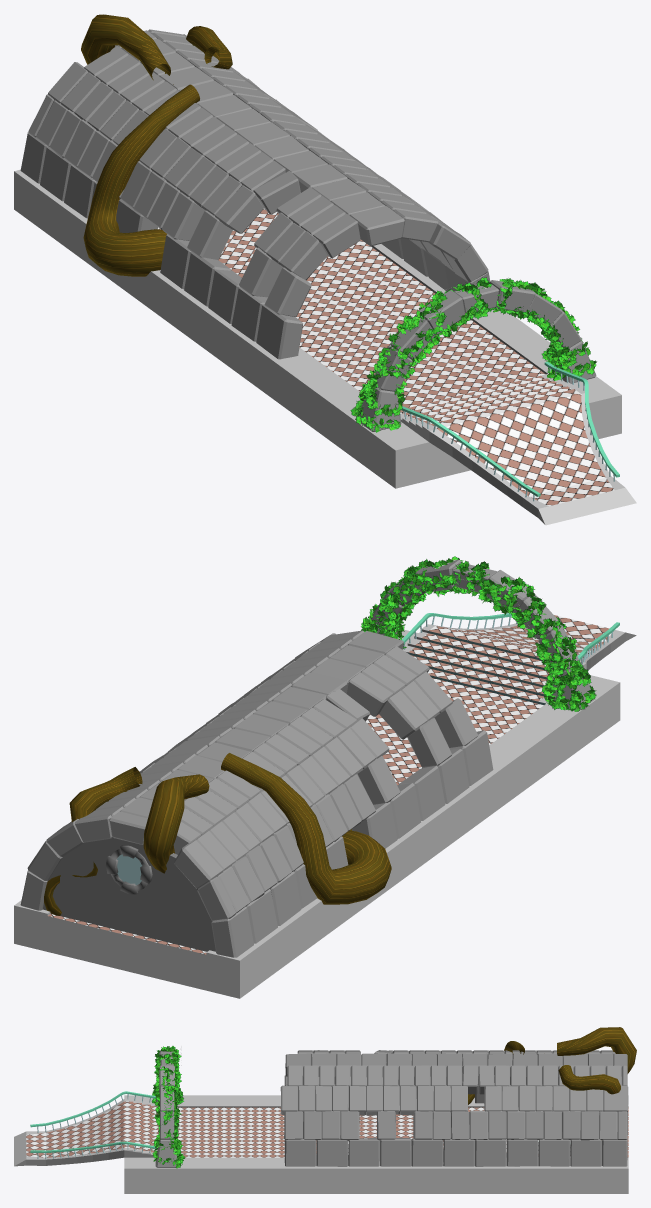
The model's file is carvedchunk.fbx.
3 renders of one model, top to bottom at view 1: azimuth 30°, elevation 25°; view 2: azimuth 150°, elevation 25°; view 3: azimuth 270°, elevation 25°, orthographic. The views are drawn at different scales.
Parts seen in each view (by area): view 1: arch_lowrows, carvedchunk, BigVine3, vines1, staonearch0, BigVine1, stair_ramps, BigVine2; view 2: arch_lowrows, carvedchunk, window_wall, vines1, BigVine3, staonearch0, BigVine1, BigVine2, stair_ramps, window_wall_frame; view 3: arch_lowrows, carvedchunk, vines1, BigVine1, staonearch0, stair_ramps, BigVine2.
Boxes of the visible parts, box(x1,y1,x2,y2) form: arch_lowrows: box(20, 29, 490, 359); carvedchunk: box(14, 169, 636, 525); BigVine3: box(83, 84, 199, 276); vines1: box(350, 277, 596, 432); staonearch0: box(358, 280, 596, 431); BigVine1: box(81, 14, 173, 84); stair_ramps: box(400, 362, 619, 501); BigVine2: box(186, 26, 232, 69); arch_lowrows: box(20, 630, 493, 957); carvedchunk: box(14, 615, 636, 998); window_wall: box(42, 837, 215, 951); vines1: box(361, 556, 596, 711); BigVine3: box(221, 753, 391, 904); staonearch0: box(370, 559, 594, 710); BigVine1: box(143, 774, 209, 873); BigVine2: box(44, 767, 142, 915); stair_ramps: box(402, 613, 619, 693); window_wall_frame: box(106, 845, 152, 894); arch_lowrows: box(280, 1050, 628, 1166); carvedchunk: box(14, 1095, 628, 1193); vines1: box(151, 1046, 184, 1168); BigVine1: box(557, 1027, 636, 1073); staonearch0: box(155, 1050, 177, 1167); stair_ramps: box(30, 1091, 157, 1159); BigVine2: box(558, 1065, 620, 1094).
Size of what is drawn, in the model's own units: 161 by 495 by 106.
